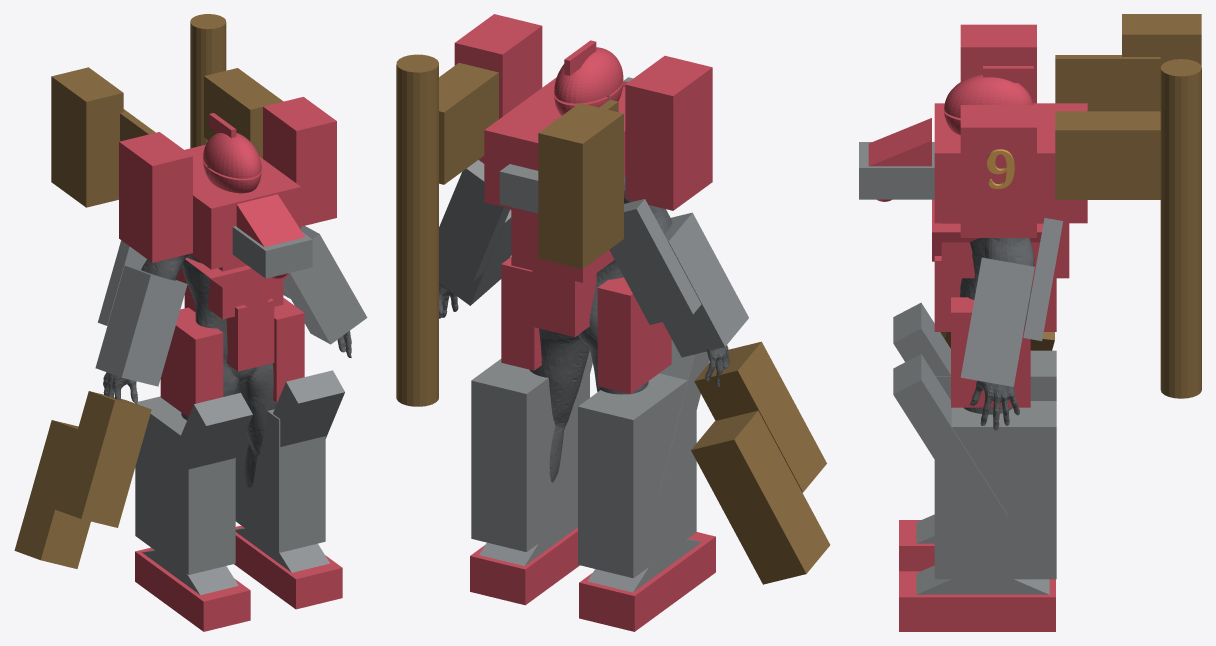
File: asset.glb
The picture shows the model from 3 angles, left to right: view 1: azimuth 30°, elevation 25°; view 2: azimuth 150°, elevation 25°; view 3: azimuth 270°, elevation 25°; orthographic projection. The views are drawn at different scales.
Parts seen in each view (by area): view 1: Mesh_Mesh_head_geo.001_lambert2SG.001; view 2: Mesh_Mesh_head_geo.001_lambert2SG.001; view 3: Mesh_Mesh_head_geo.001_lambert2SG.001.
Part boxes in pixels (<box>): Mesh_Mesh_head_geo.001_lambert2SG.001: <box>14,14,367,631</box>; Mesh_Mesh_head_geo.001_lambert2SG.001: <box>396,14,830,631</box>; Mesh_Mesh_head_geo.001_lambert2SG.001: <box>859,14,1201,631</box>.
Bounding box in the file's own units: 136 × 194 × 108.
